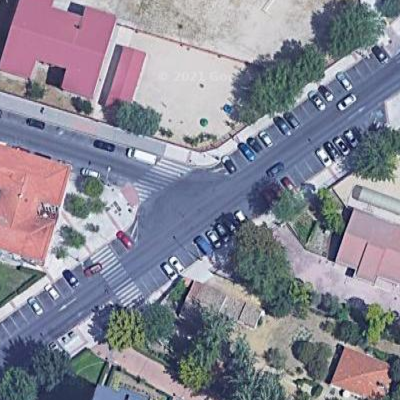tree: (313, 4, 382, 60), (231, 221, 287, 284), (345, 122, 400, 185), (235, 65, 293, 115), (279, 38, 328, 90), (32, 345, 81, 395), (112, 95, 164, 139), (228, 362, 287, 400), (194, 303, 235, 356), (101, 305, 145, 353), (315, 185, 349, 239), (144, 301, 180, 351), (360, 301, 396, 348), (174, 351, 214, 392), (1, 362, 44, 400), (272, 186, 309, 229), (290, 279, 316, 319), (56, 223, 90, 253), (19, 75, 51, 105), (66, 192, 95, 225), (69, 91, 97, 121), (293, 338, 319, 369), (81, 173, 107, 203)
